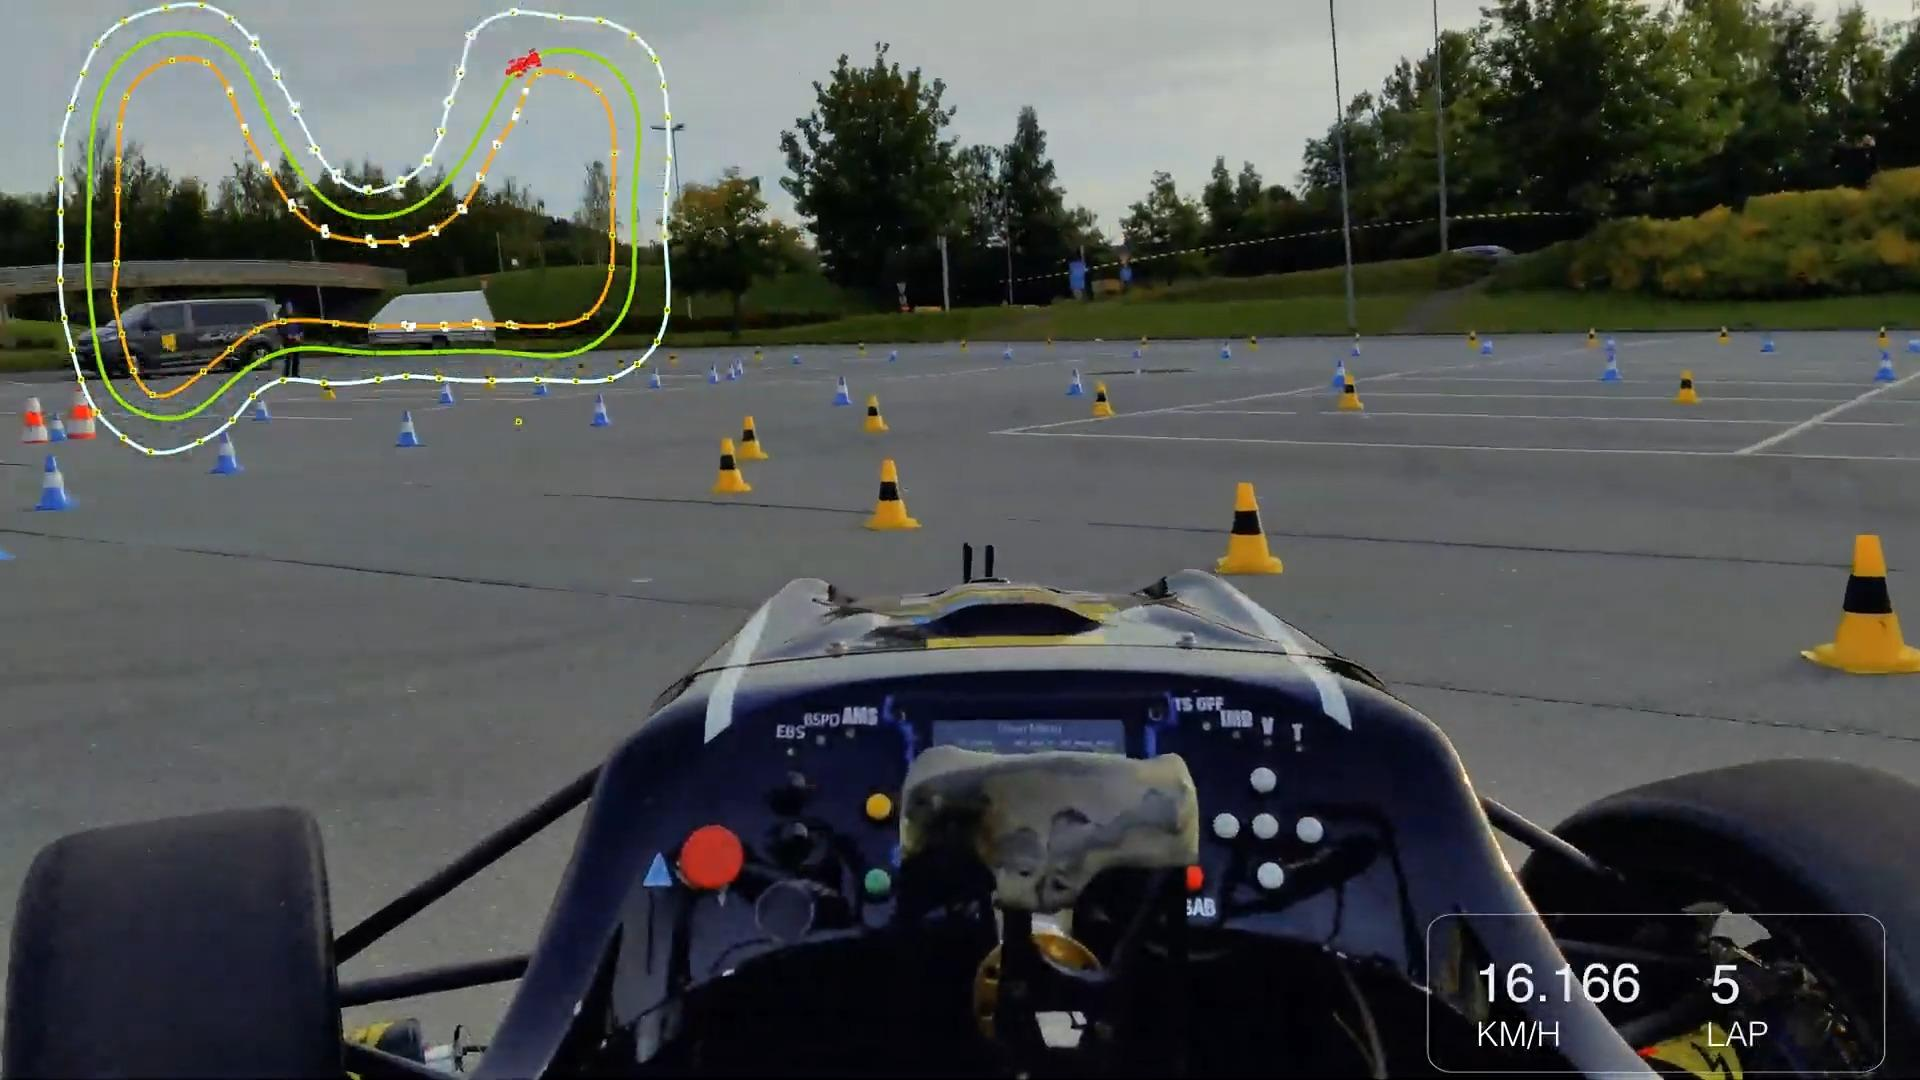blue_cone: (16, 447, 92, 521), (193, 425, 256, 496), (375, 400, 422, 450)
yellow_cone: (1799, 517, 1920, 680), (1203, 475, 1287, 578), (858, 444, 923, 543), (698, 429, 758, 500), (849, 389, 901, 434)
